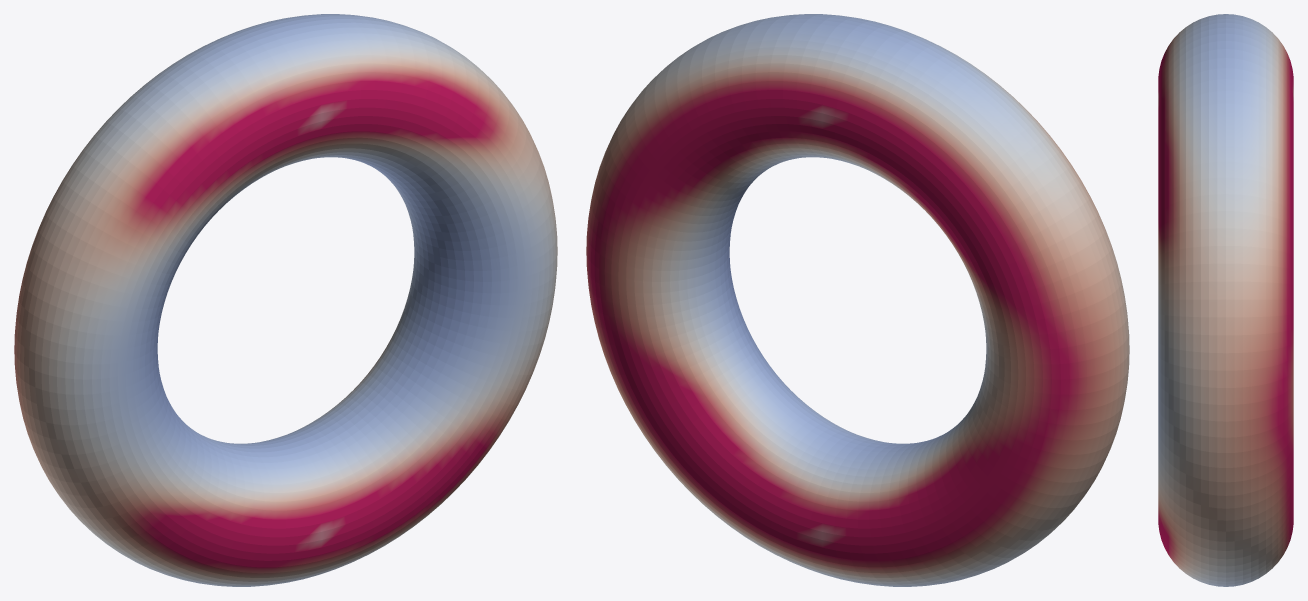
3 views of the same model, side by side, from view 1: azimuth 30°, elevation 25°; view 2: azimuth 150°, elevation 25°; view 3: azimuth 270°, elevation 25° (orthographic). The views are drawn at different scales.
Visible parts, largest first — view 1: world; view 2: world; view 3: world.
Boxes of the visible parts, box(x1,y1,x2,y2) form: world: box(14, 14, 557, 586); world: box(586, 14, 1129, 586); world: box(1158, 14, 1293, 586).
Bounding box in the file's own units: 25.33 × 25.33 × 5.99.
